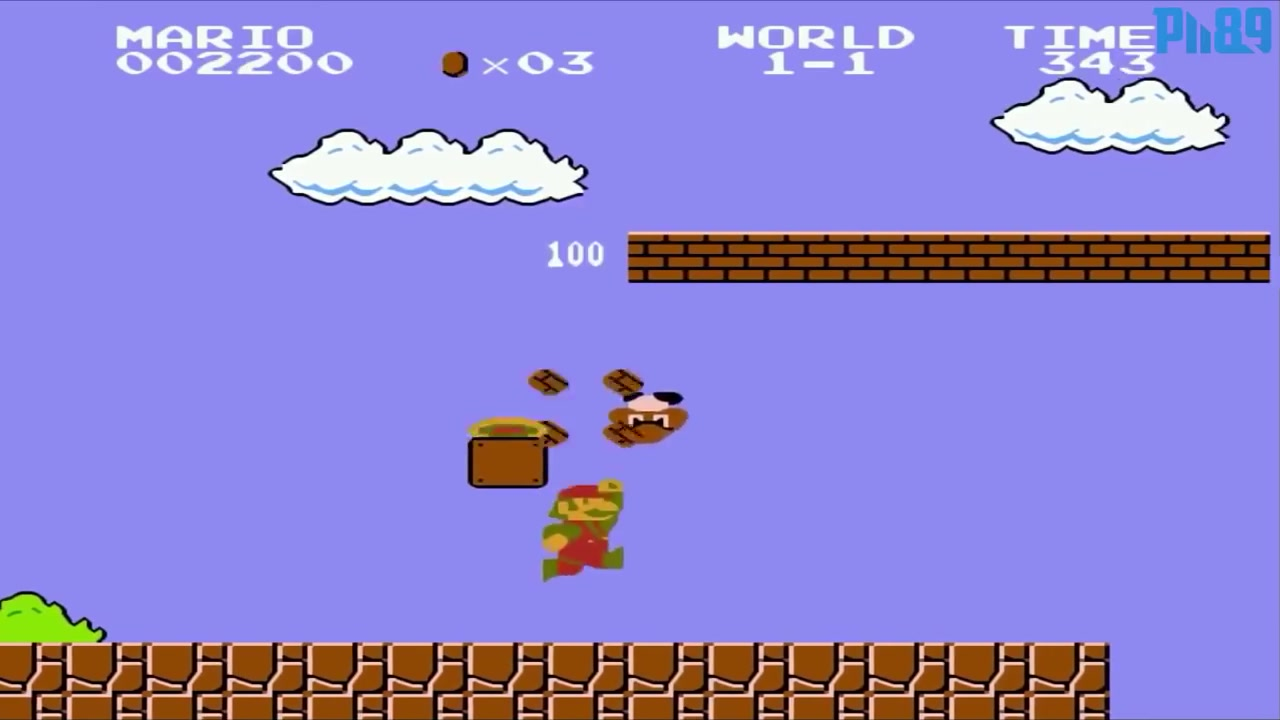mario: (541, 481, 627, 595)
